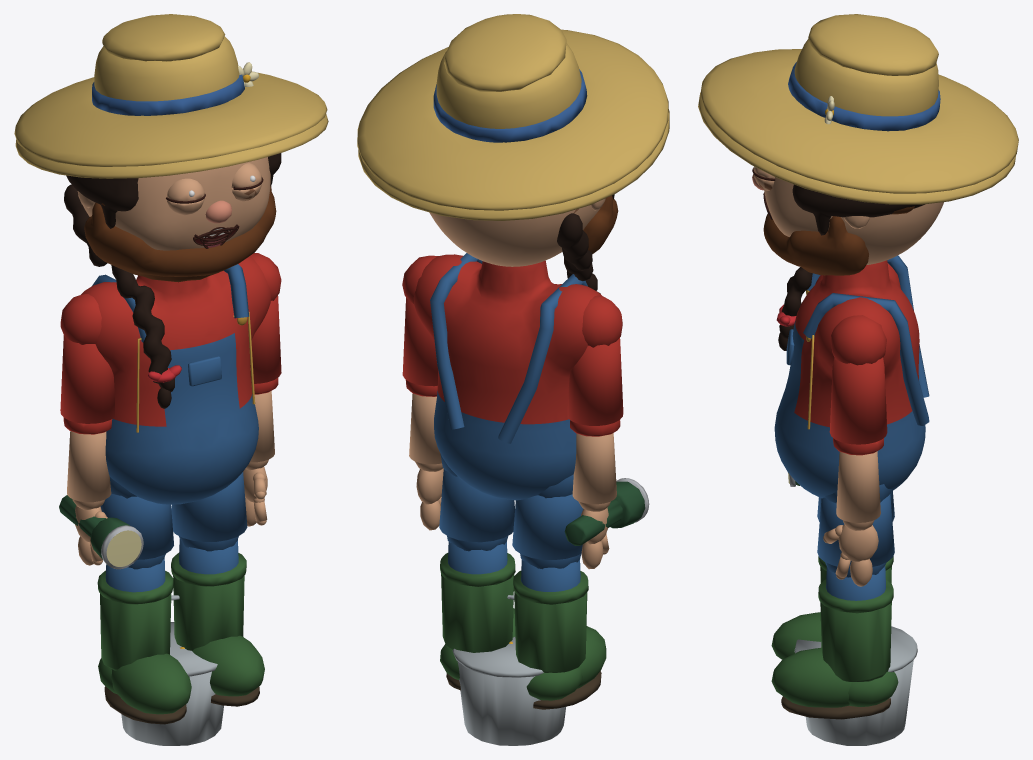
Rendered from farmer.glb.
The picture shows the model from 3 angles, left to right: view 1: azimuth 30°, elevation 25°; view 2: azimuth 150°, elevation 25°; view 3: azimuth 270°, elevation 25°; orthographic projection.
Parts seen in each view (by area): view 1: farmer_m, farmer_f; view 2: farmer_m, farmer_f; view 3: farmer_m, farmer_f.
Boxes of the visible parts, x1,y1,x2,y2 form: farmer_m: (14,14,327,745); farmer_f: (15,62,328,408); farmer_m: (357,14,668,745); farmer_f: (358,109,669,293); farmer_m: (700,14,1018,745); farmer_f: (698,92,1015,350).
Size of the model in its own units: 0.6242 by 1.55 by 0.6454.
